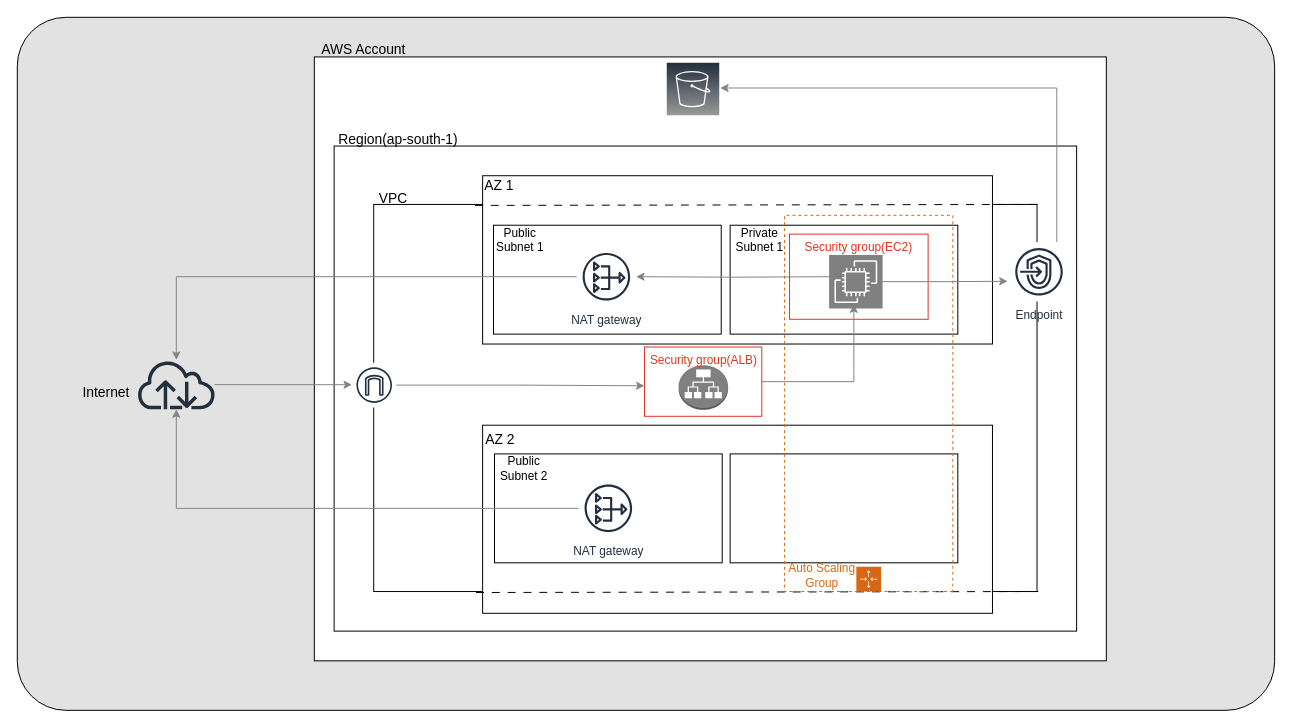
This 1292x728 diagram has some shape labels left out. Each missing label, with the centre of its shape:
"Amazon S3" belongs at [692,101].
"Internet gateway" belongs at [373,384].
"Private Subnet 2" belongs at [843,508].
